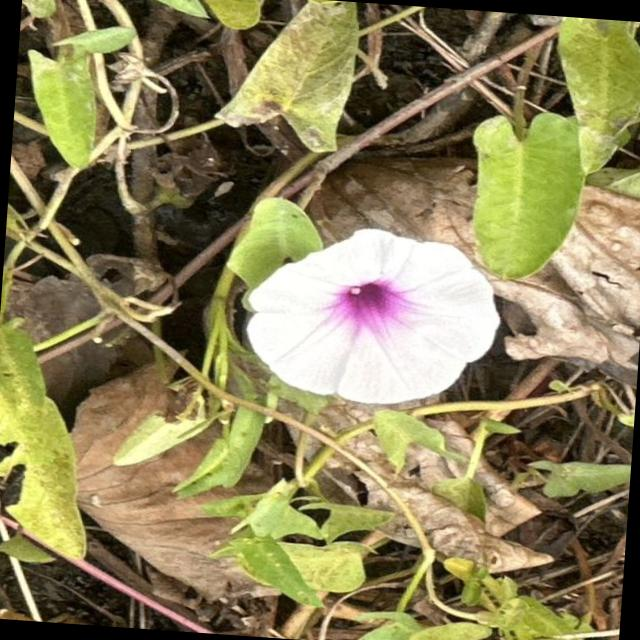ipomoea: (235, 216, 508, 414)
